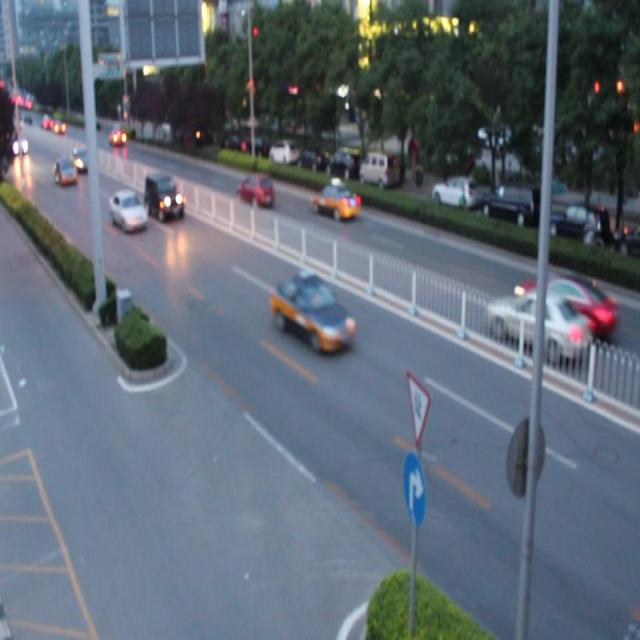car: (272, 281, 351, 352), (494, 299, 581, 359), (523, 279, 612, 337), (145, 174, 183, 218), (314, 188, 358, 220), (110, 192, 146, 229), (239, 175, 274, 208)
